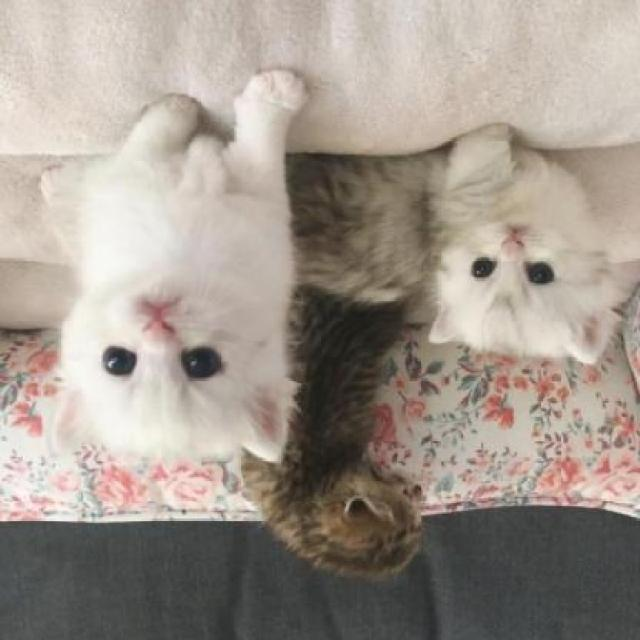cat: (40, 68, 297, 475), (298, 112, 612, 382), (235, 312, 420, 580)
